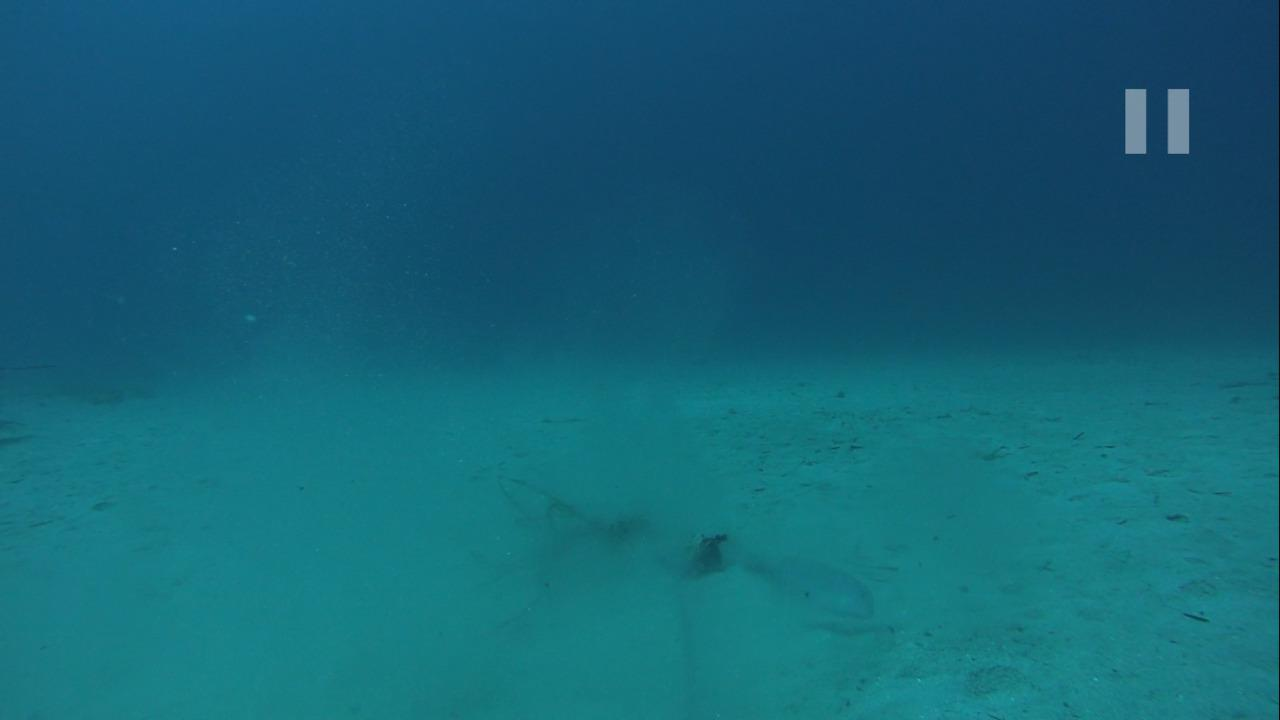raor: (735, 546, 881, 626)
